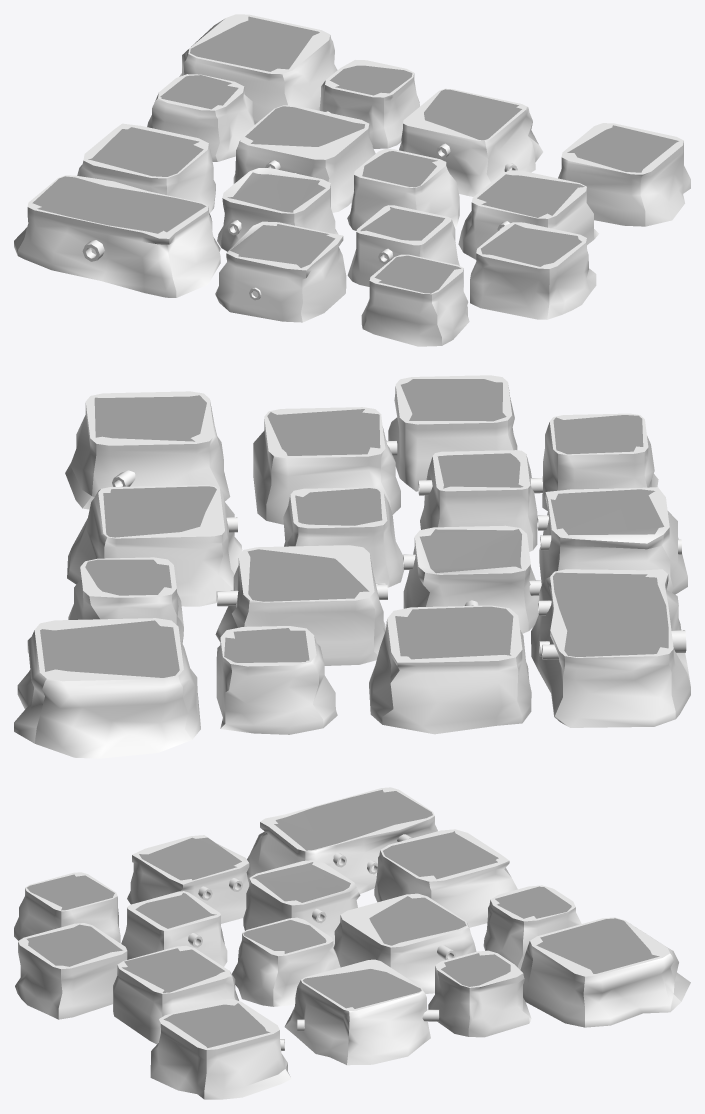
File: all islands meshed together.fbx
3 renders of one model, top to bottom at view 1: azimuth 30°, elevation 25°; view 2: azimuth 150°, elevation 25°; view 3: azimuth 270°, elevation 25°, orthographic. The views are drawn at different scales.
Parts seen in each view (by area): view 1: islands1; view 2: islands1; view 3: islands1.
Part boxes in pixels (x1=…): islands1: x1=14, y1=14, x2=690, y2=346; islands1: x1=14, y1=375, x2=690, y2=758; islands1: x1=14, y1=787, x2=690, y2=1099.
Bounding box in the file's own units: 8802 × 779 × 9363.
